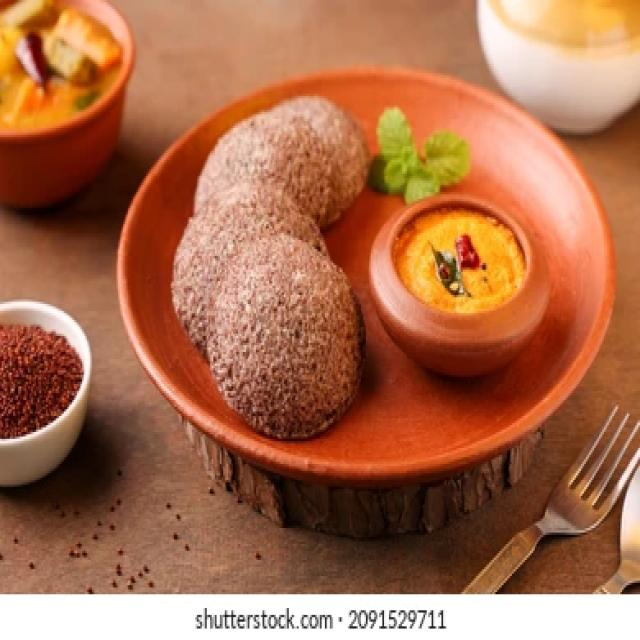IDLI: (174, 98, 364, 434), (171, 206, 361, 437)
